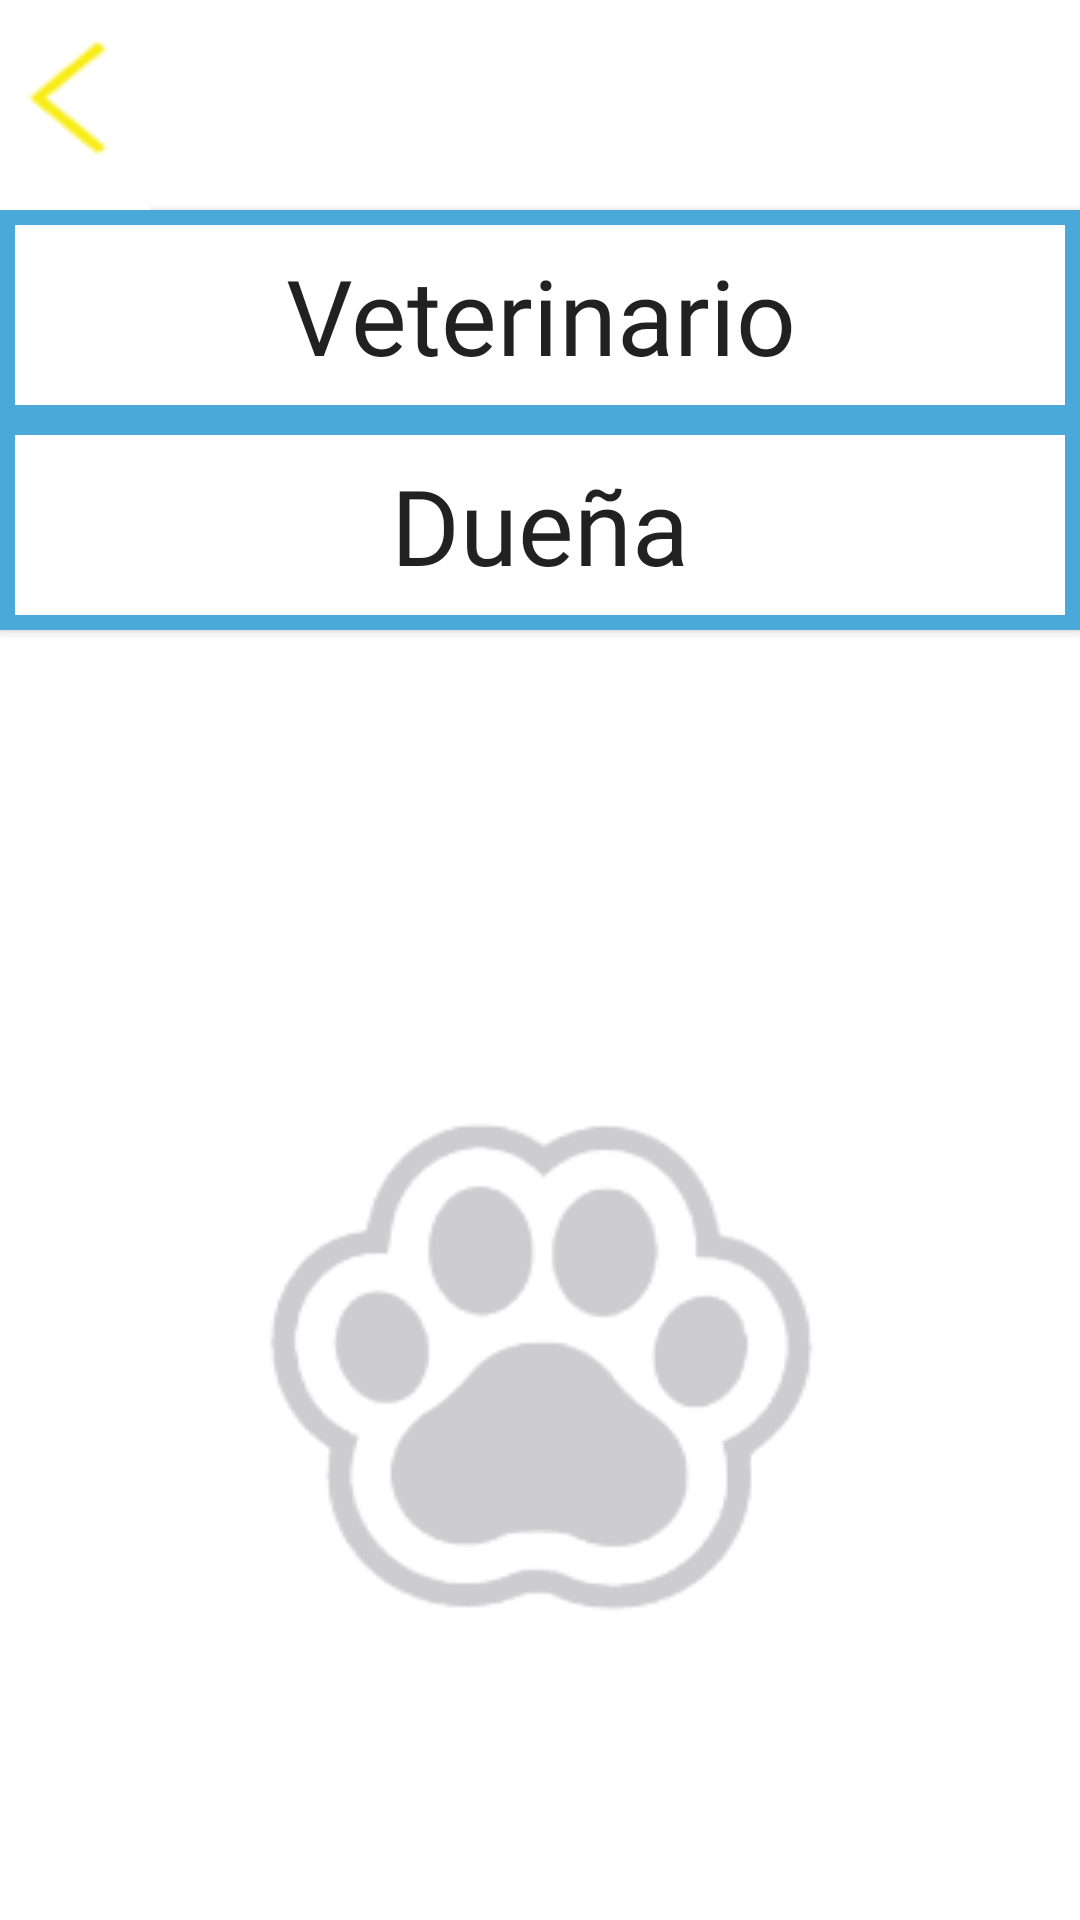

Named icons in this screenshot (1080 × 1920) and their bounding boxes, BBox(x1, y1, x2, y2):
regresar: BBox(27, 41, 108, 155)
